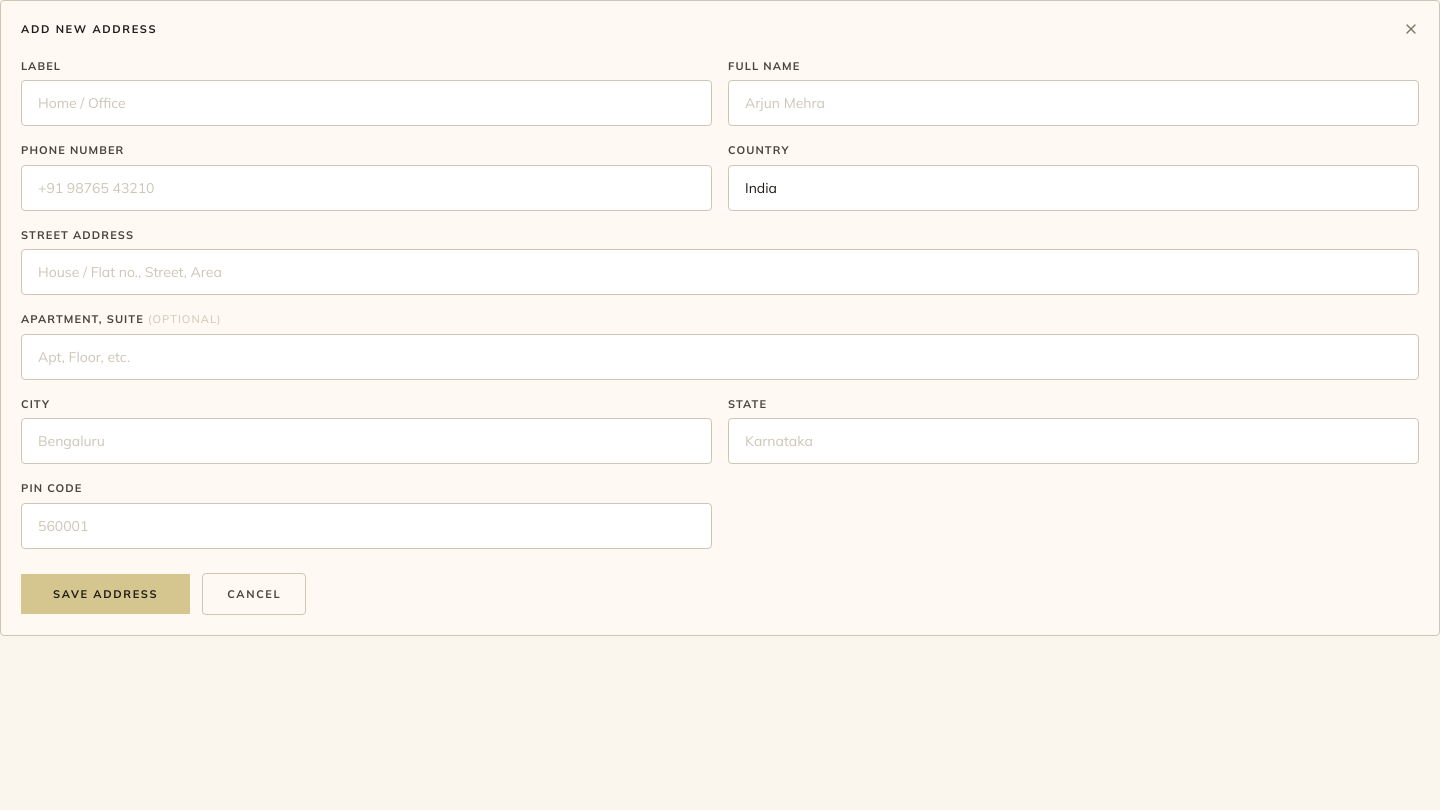
Test: AddressForm › shows PIN format error for non-6-digit values
The image size is (1440, 810).
Type "123" into the field with test id "input-pin".
click(366, 526); type("123")  # box x1=21 y1=502 x2=712 y2=548
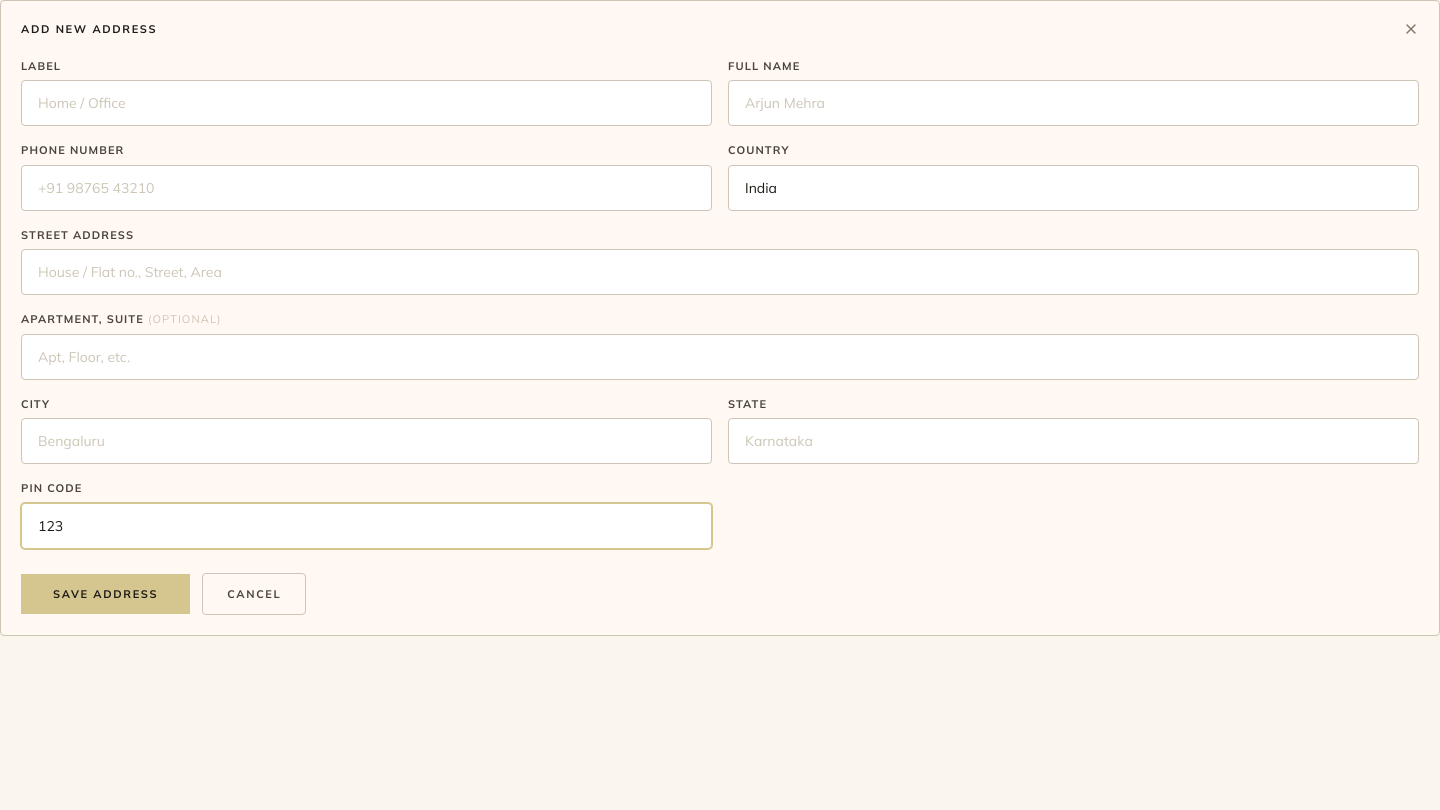
Click the button with test id "address-form-submit".
click(106, 594)  # box x1=21 y1=574 x2=190 y2=614
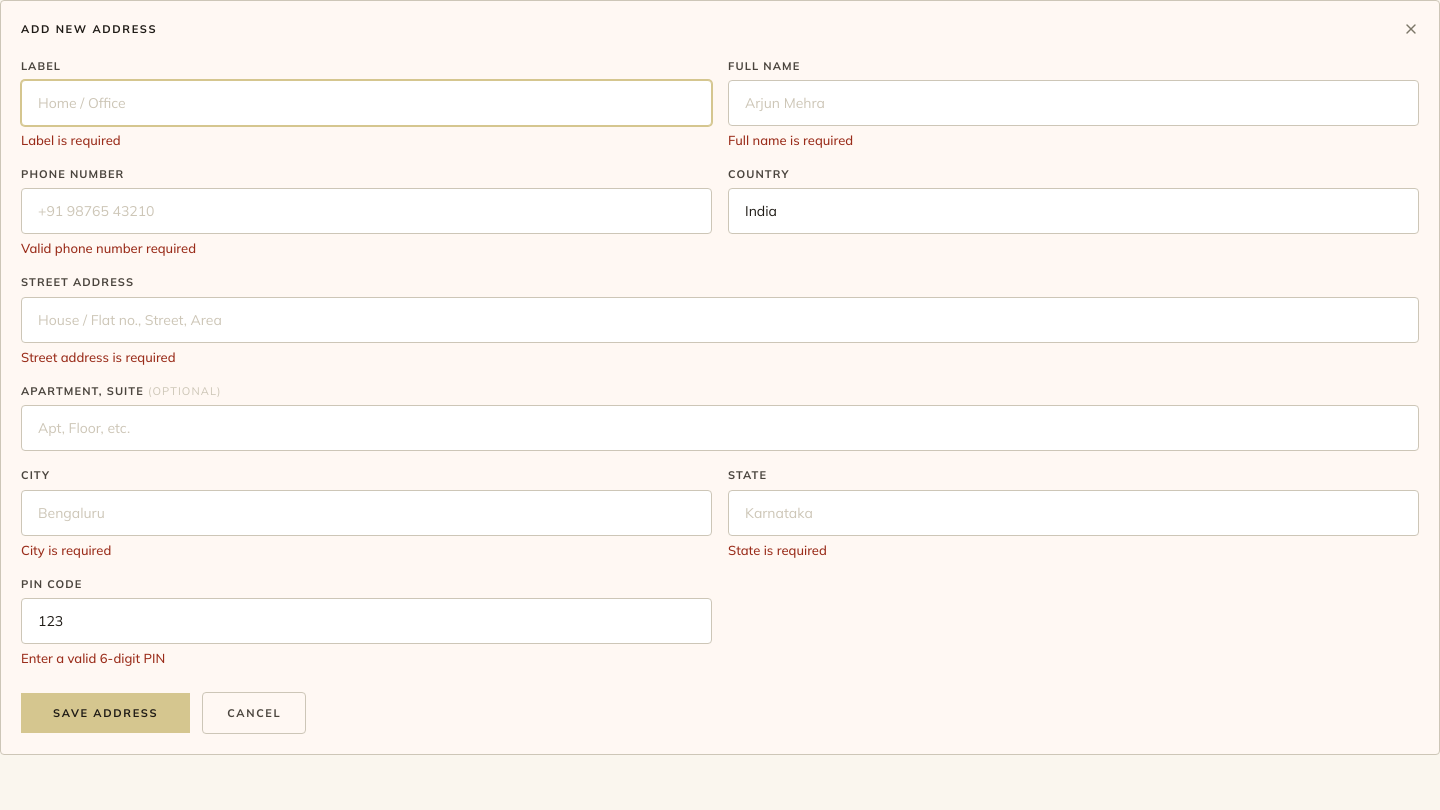
Now the text "Enter a valid 6-digit PIN" is shown, box x1=21 y1=650 x2=165 y2=666
